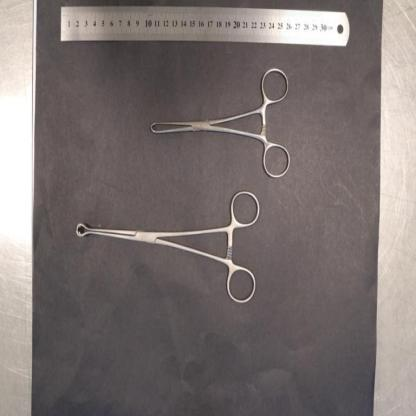8 Babcock Tissue Forceps: (75, 187, 260, 308)
Allis Tissue Forceps: (150, 66, 290, 180)
